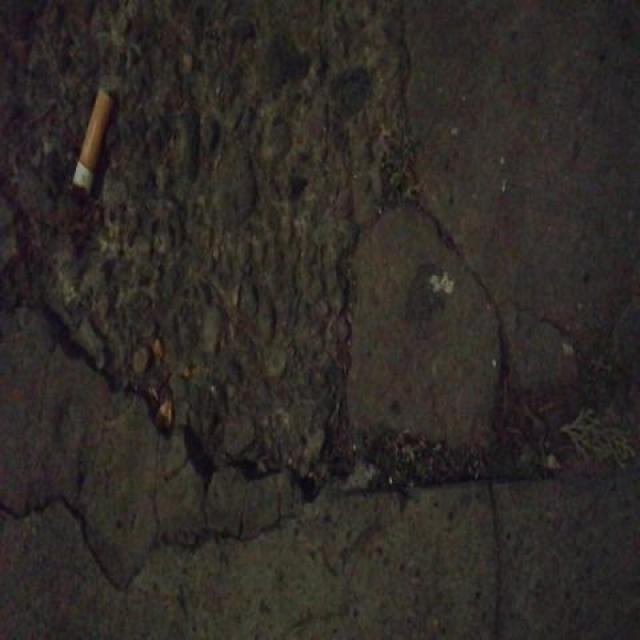non-organic waste: (68, 84, 117, 200)
